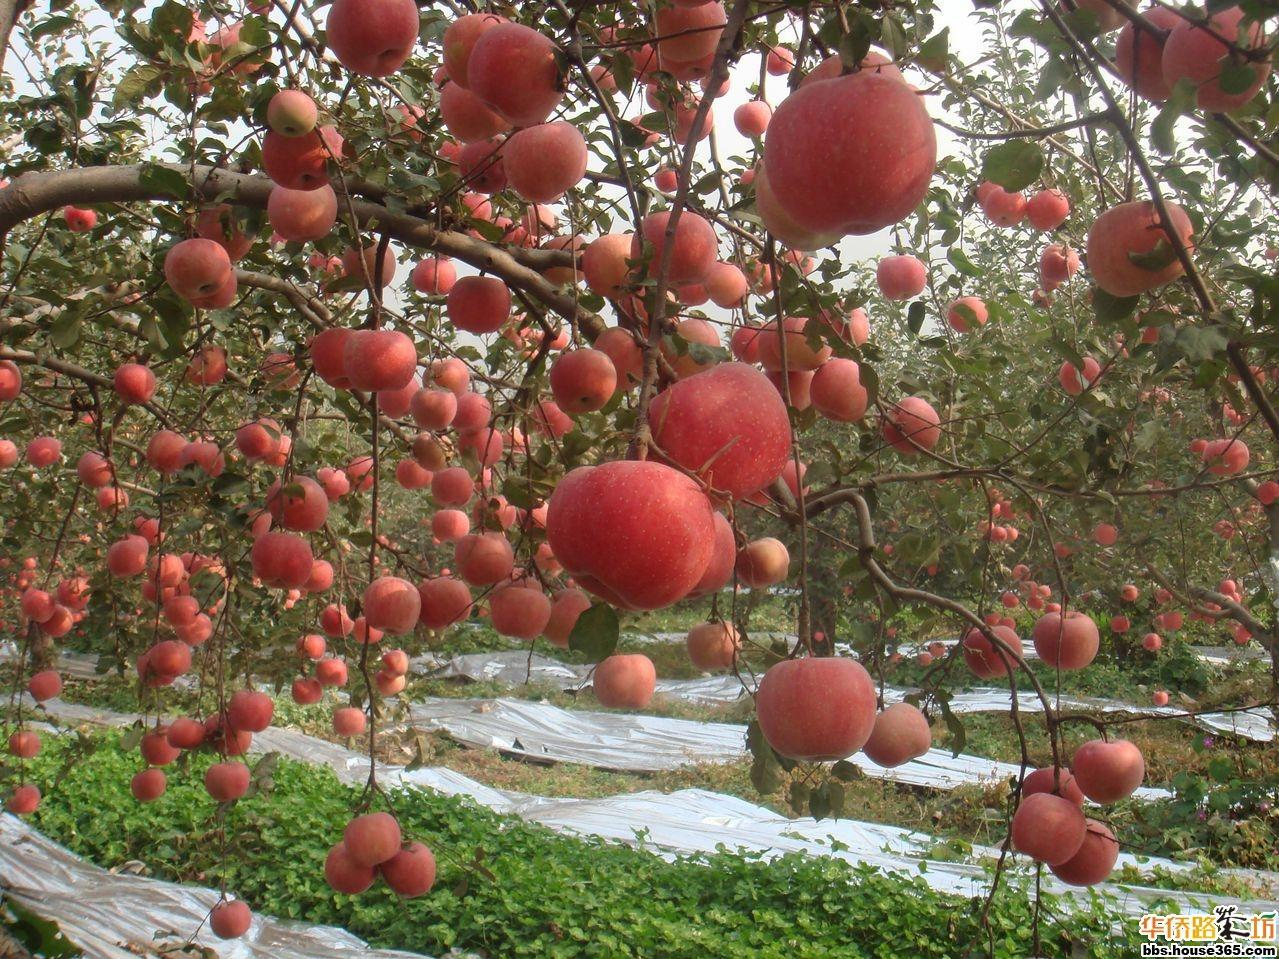apple: (542, 461, 730, 611), (765, 74, 938, 236), (636, 362, 797, 507), (755, 655, 876, 764), (1160, 1, 1266, 122), (465, 21, 571, 126), (1084, 199, 1197, 294), (502, 120, 589, 205), (326, 1, 416, 75), (631, 210, 713, 284), (1115, 4, 1170, 103), (262, 124, 343, 190), (161, 236, 235, 308), (1013, 793, 1085, 862), (548, 345, 616, 415), (1047, 819, 1120, 885), (1072, 739, 1147, 803), (265, 175, 337, 241), (342, 329, 418, 389), (983, 182, 1069, 232), (860, 703, 929, 765), (445, 273, 511, 335), (191, 202, 254, 264), (582, 234, 642, 297), (592, 653, 657, 709), (962, 623, 1027, 678), (358, 577, 423, 633), (1033, 612, 1098, 667), (254, 533, 314, 586), (455, 533, 515, 586), (268, 476, 328, 529), (344, 813, 401, 868), (491, 585, 551, 638), (384, 842, 437, 897), (409, 254, 473, 297), (264, 88, 317, 139), (977, 182, 1032, 226), (1034, 241, 1075, 300), (326, 842, 375, 892), (422, 577, 472, 624), (228, 691, 274, 732), (1024, 188, 1068, 232), (204, 761, 250, 802), (184, 342, 226, 386), (209, 900, 252, 939), (150, 641, 192, 675), (141, 730, 179, 762), (169, 717, 205, 748), (132, 768, 164, 801)
